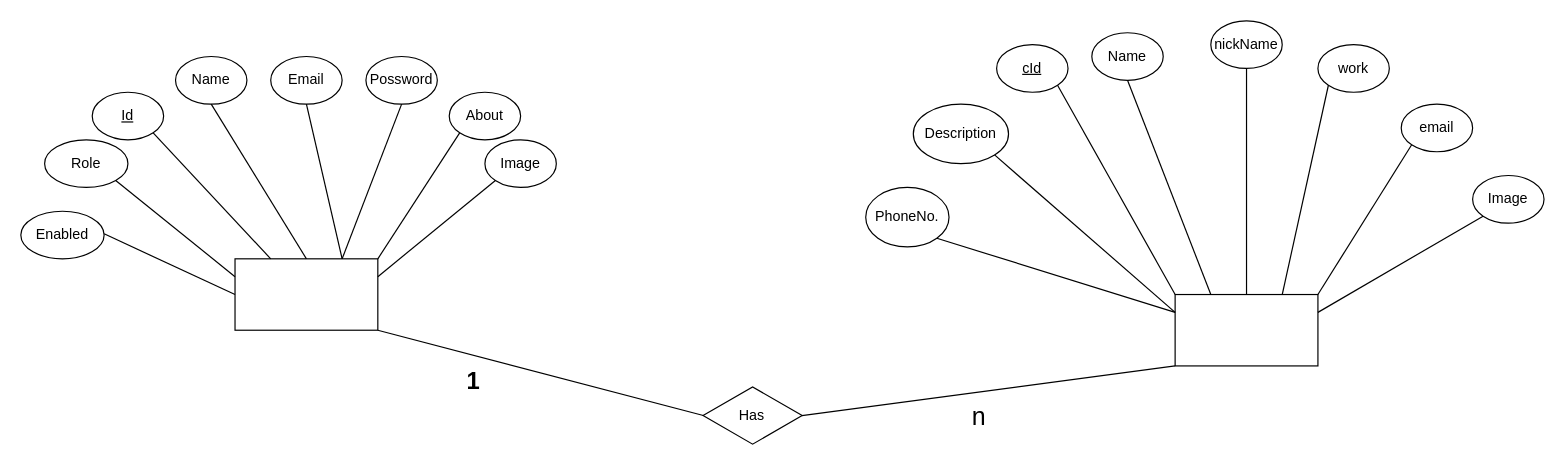
Some shapes in this 1565 by 466 pixel diagram are drawn without their labels. The shapes that lost their labels are listed below. From the top down, each one's centre as x and y in pixels, then its label:
At pixel 306 294: "USER".
At pixel 1246 329: "CONTACT".
